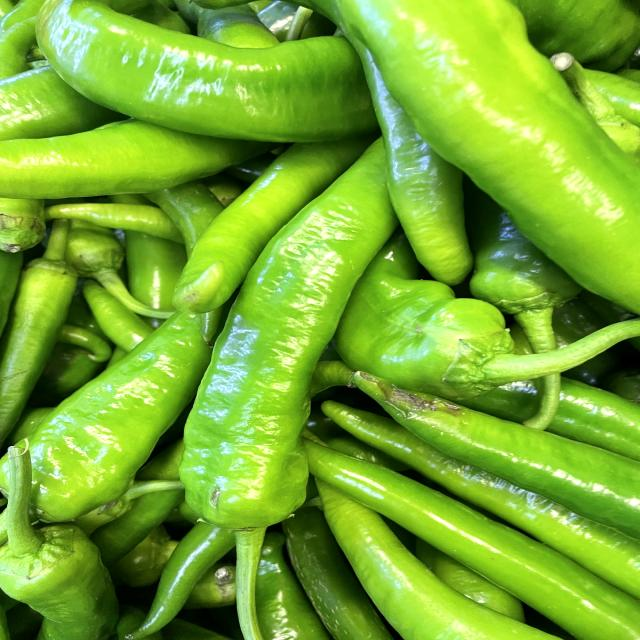green pepper: (178, 130, 446, 640)
